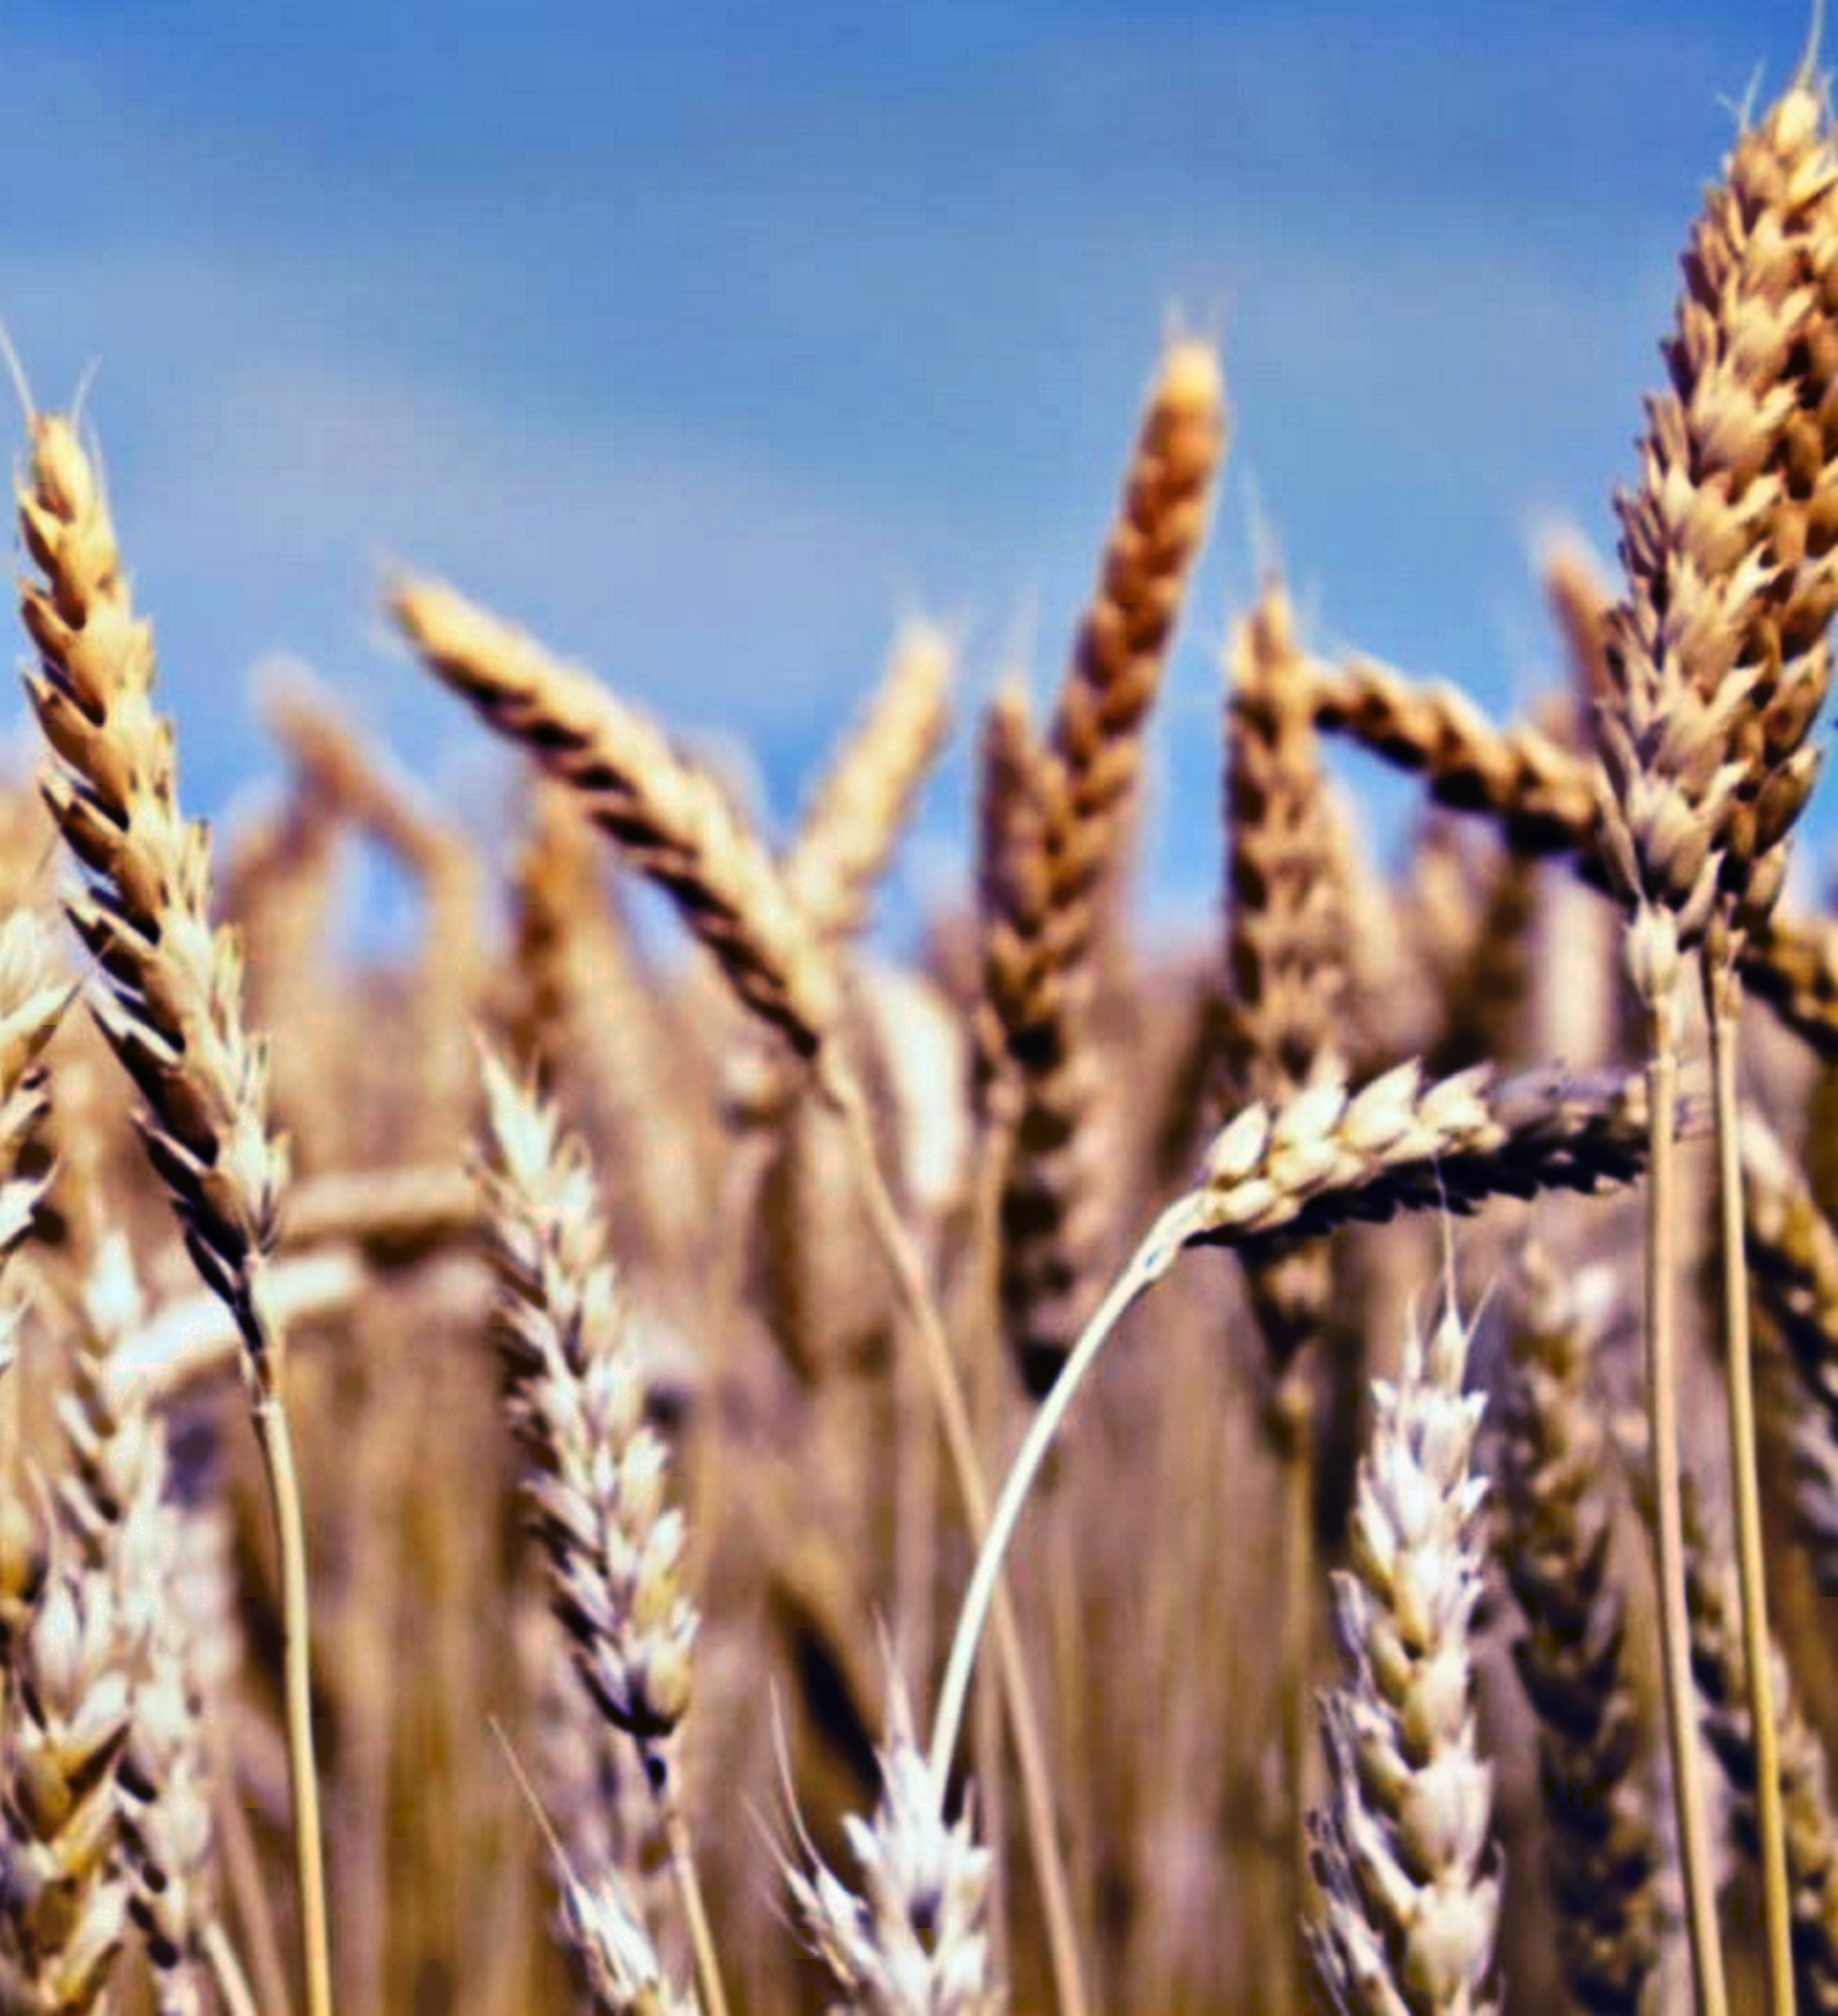Healthy Wheat: (11, 385, 325, 1259), (1541, 81, 1838, 969)
